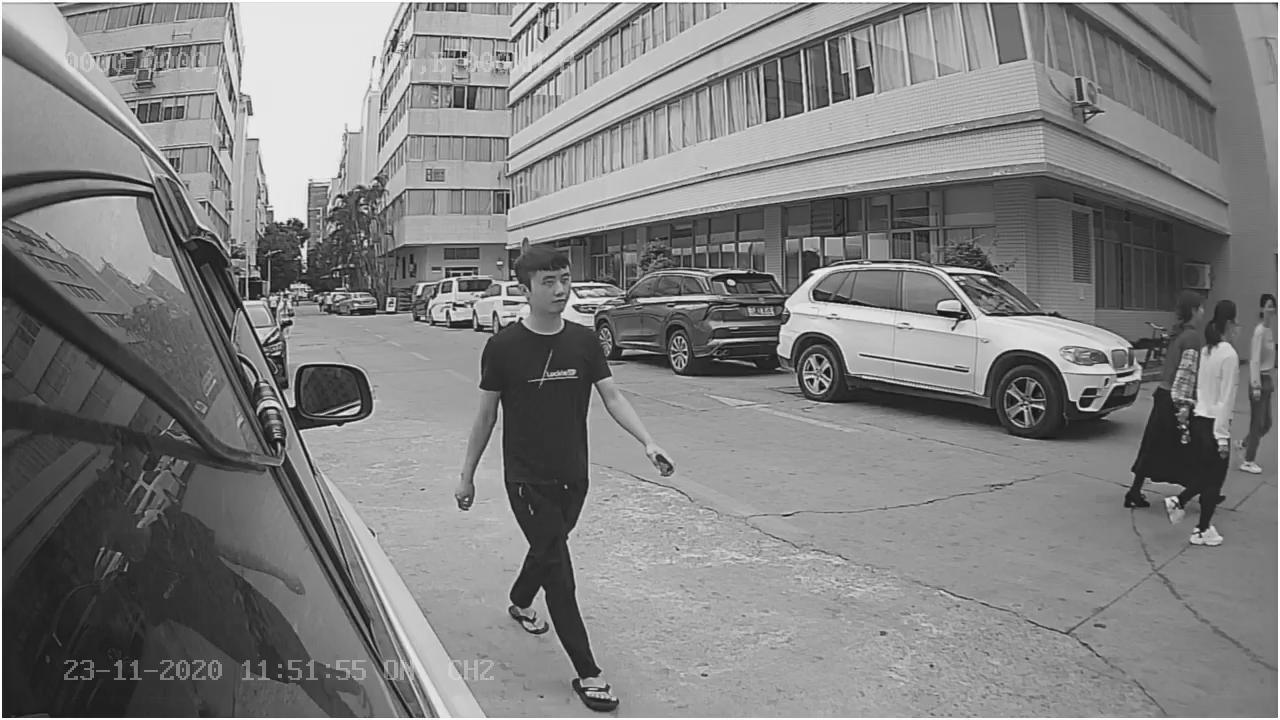person: (458, 233, 684, 710), (1161, 300, 1245, 556)
